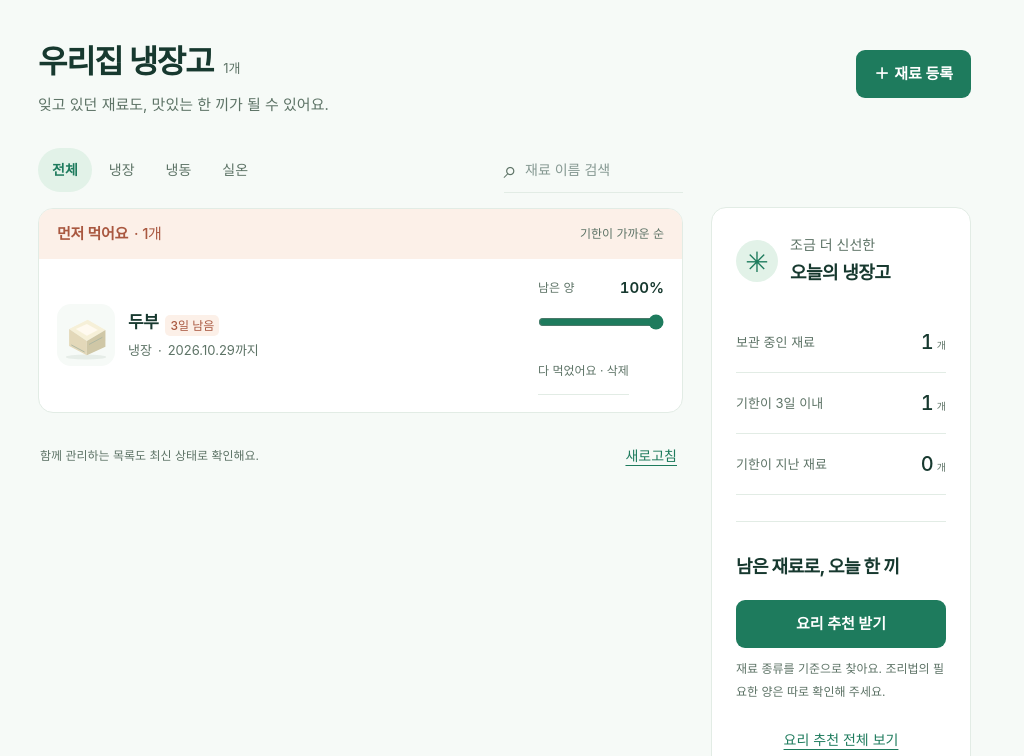
inventory controls with real hook and HTTP boundary › rollback_failed_remaining_update
This screenshot has width=1024, height=756.
Set the slider named "두부 남은 양" to "45" at (596, 322), box [538, 300, 664, 344]
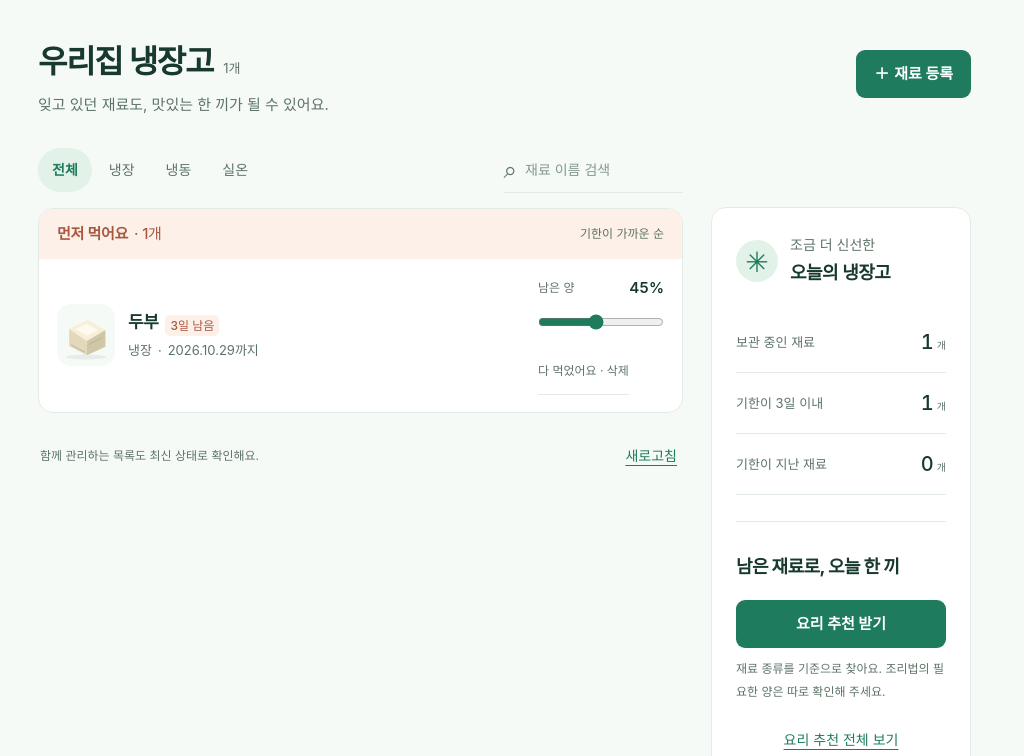
Leave the slider named "두부 남은 양", box [538, 300, 664, 344]
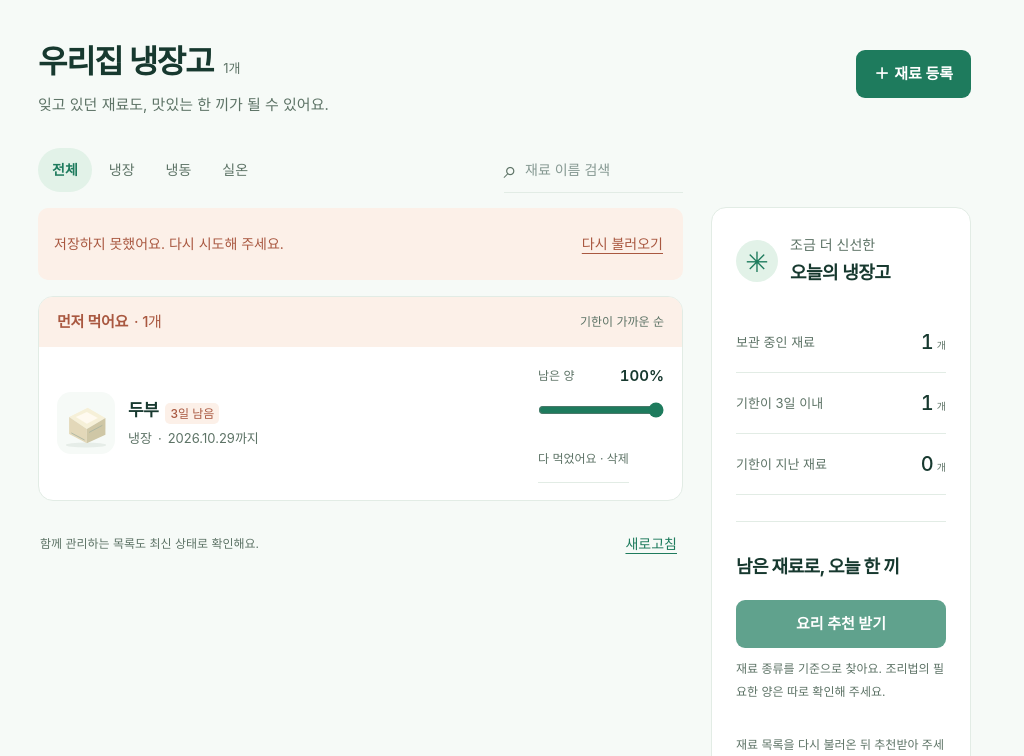
Expected: the message "저장하지 못했어요. 다시 시도해 주세요." is shown, [54, 233, 284, 255]
Expected: the slider named "두부 남은 양" holds "100", [538, 388, 664, 432]
Expected: the button "다시 불러오기" is shown, [578, 222, 667, 266]
